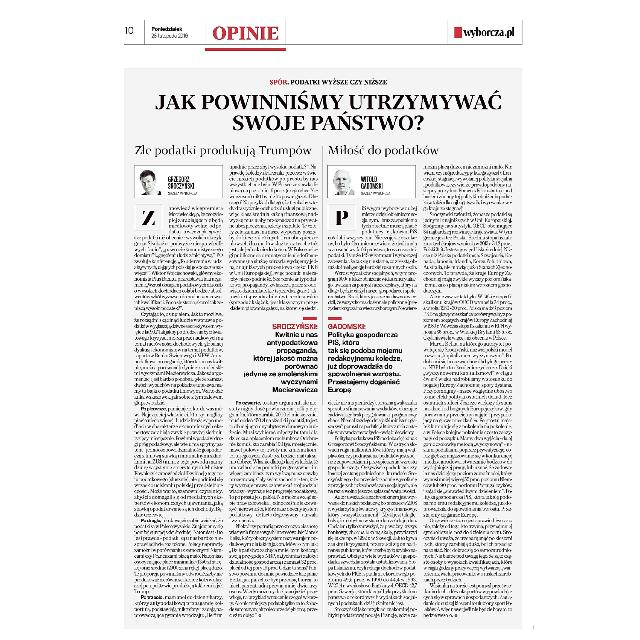article: (326, 140, 522, 622), (130, 140, 320, 620)
